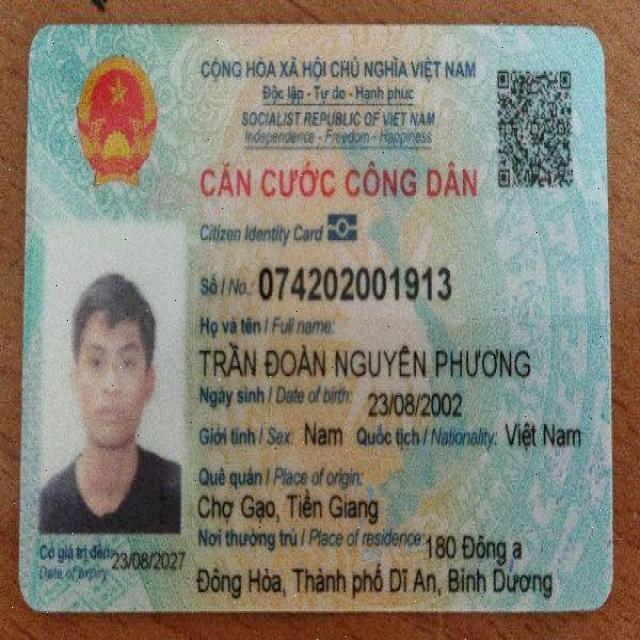current_place: (197, 559, 556, 602), (423, 529, 525, 567)
dob: (363, 385, 469, 420)
expire_date: (112, 550, 186, 574)
gender: (301, 418, 345, 449)
id: (258, 263, 452, 309)
name: (197, 339, 532, 385)
nationality: (502, 413, 591, 459)
origin_place: (199, 488, 384, 527)
